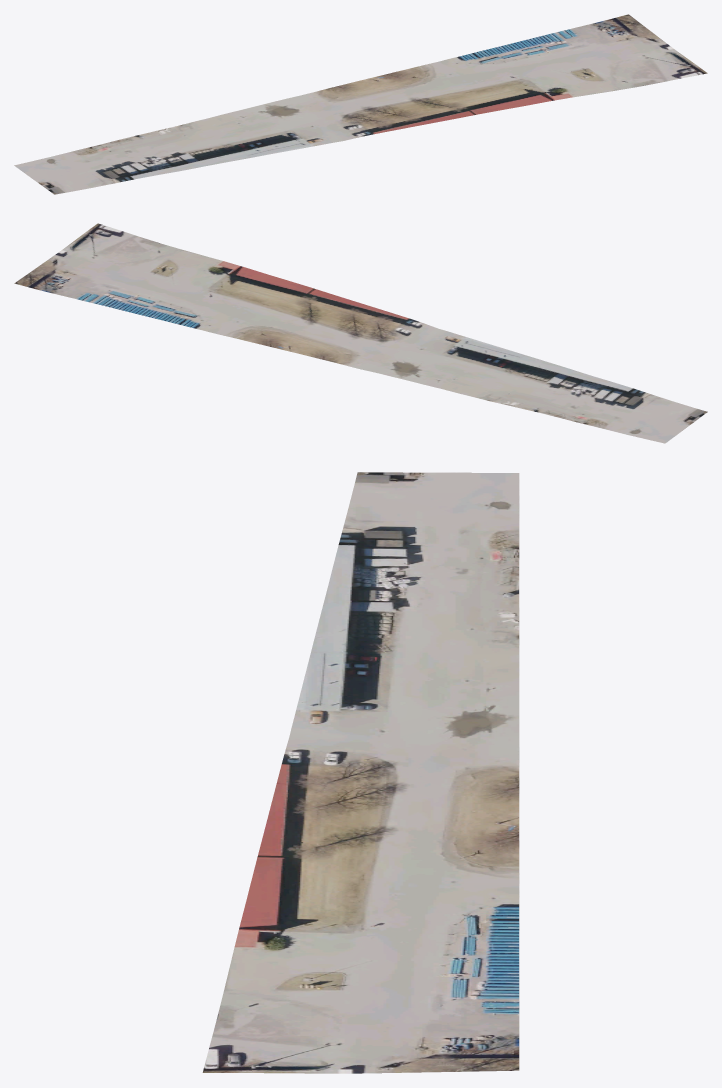
File: CM_Terrain_24488206_6818565.fbx
The picture shows the model from 3 angles, top to bottom: view 1: azimuth 30°, elevation 25°; view 2: azimuth 150°, elevation 25°; view 3: azimuth 270°, elevation 25°; orthographic projection. The views are drawn at different scales.
Visible parts, largest first — view 1: CM_Terrain_24488206_6818565_LOD0; view 2: CM_Terrain_24488206_6818565_LOD0; view 3: CM_Terrain_24488206_6818565_LOD0.
Boxes of the visible parts, bbox=[...] form: CM_Terrain_24488206_6818565_LOD0: bbox=[14, 14, 707, 194]; CM_Terrain_24488206_6818565_LOD0: bbox=[14, 223, 707, 443]; CM_Terrain_24488206_6818565_LOD0: bbox=[202, 472, 519, 1073].
Size of what is drawn, in the model's own units: 205 by 0.766 by 45.69.
